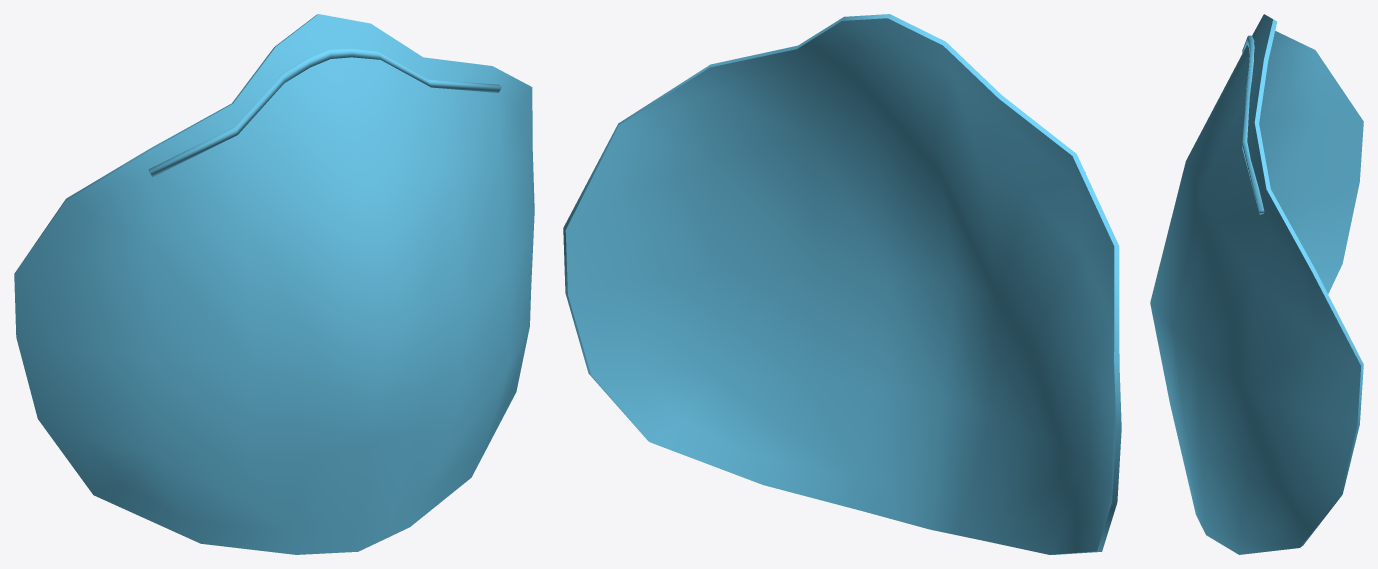
File: maskN95_loose.FBX
3 renders of one model, left to right at view 1: azimuth 30°, elevation 25°; view 2: azimuth 150°, elevation 25°; view 3: azimuth 270°, elevation 25°, orthographic. The views are drawn at different scales.
Parts seen in each view (by area): view 1: maskN096_loose, nosePincher; view 2: maskN096_loose; view 3: maskN096_loose, nosePincher.
Part boxes in pixels (x1=…): maskN096_loose: x1=14, y1=14, x2=534, y2=554; nosePincher: x1=148, y1=48, x2=501, y2=176; maskN096_loose: x1=563, y1=14, x2=1121, y2=554; maskN096_loose: x1=1150, y1=14, x2=1363, y2=554; nosePincher: x1=1242, y1=35, x2=1264, y2=214.
Size of the model in its own units: 11.94 by 11.19 by 4.38.
